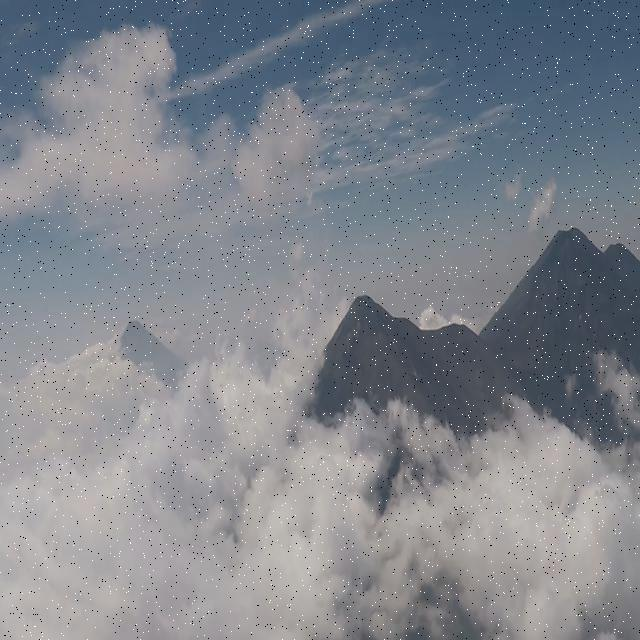Plume: (0, 22, 196, 235), (231, 71, 326, 221)
Summit: (332, 285, 418, 334)
